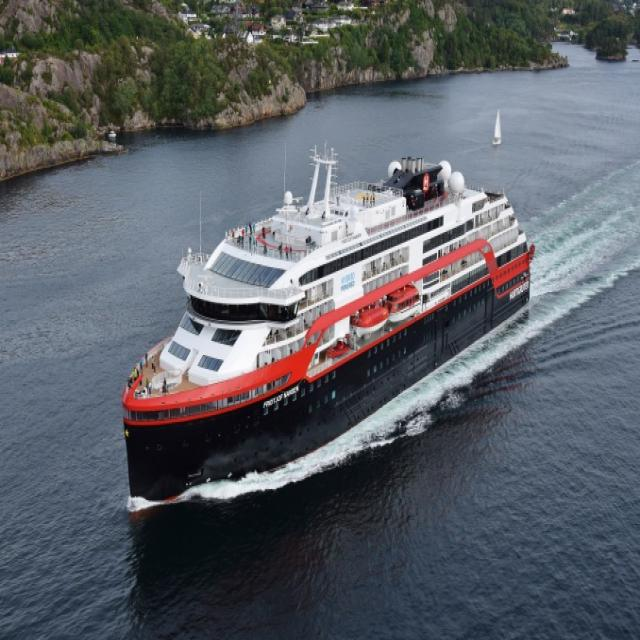cruises: (117, 140, 538, 516)
